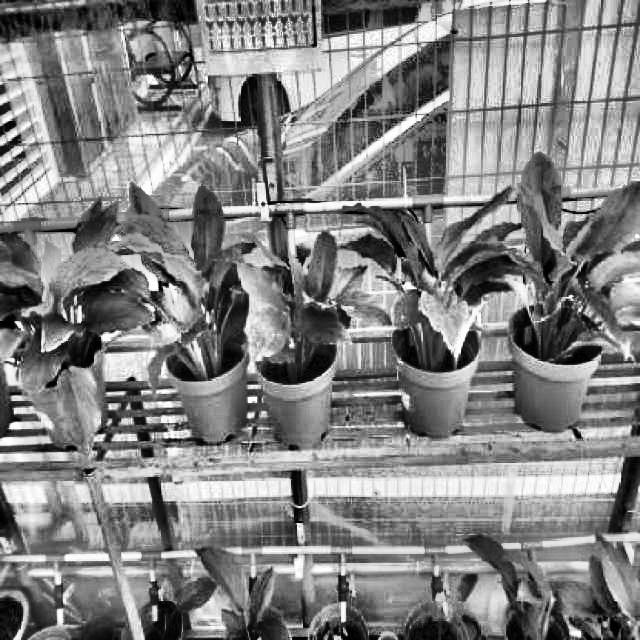plants: (0, 206, 158, 447), (330, 191, 522, 380), (509, 150, 640, 378), (118, 180, 259, 389), (239, 220, 392, 377)
